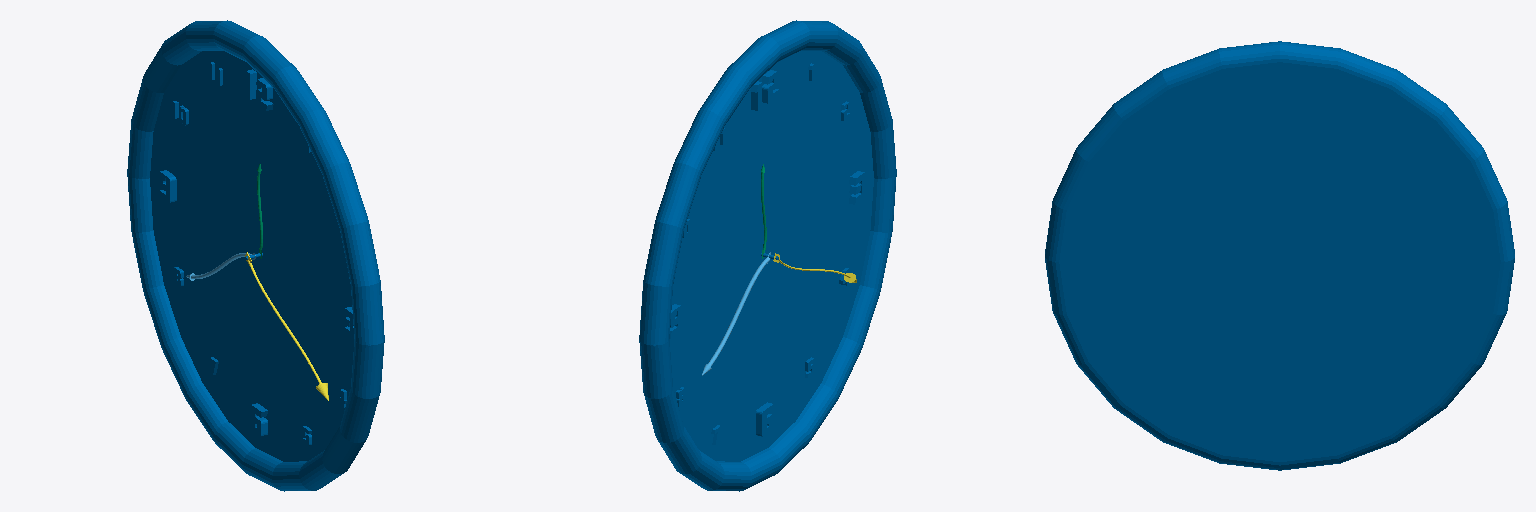
URDF robot description (partnet_e67f610cafeb2c0dbf93f50e43a43f7e):
<?xml version="1.0" ?>
<robot name="partnet_e67f610cafeb2c0dbf93f50e43a43f7e">
	<link name="base"/>
	<link name="link_0">
		<visual name="hand-4">
			<origin xyz="-0.008076388910453064 0.037848999999999966 0"/>
			<geometry>
				<mesh filename="textured_objs/original-12.obj"/>
			</geometry>
		</visual>
		<visual name="hand-4">
			<origin xyz="-0.008076388910453064 0.037848999999999966 0"/>
			<geometry>
				<mesh filename="textured_objs/original-11.obj"/>
			</geometry>
		</visual>
		<visual name="hand-4">
			<origin xyz="-0.008076388910453064 0.037848999999999966 0"/>
			<geometry>
				<mesh filename="textured_objs/original-10.obj"/>
			</geometry>
		</visual>
		<collision>
			<origin xyz="-0.008076388910453064 0.037848999999999966 0"/>
			<geometry>
				<mesh filename="textured_objs/original-12.obj"/>
			</geometry>
		</collision>
		<collision>
			<origin xyz="-0.008076388910453064 0.037848999999999966 0"/>
			<geometry>
				<mesh filename="textured_objs/original-11.obj"/>
			</geometry>
		</collision>
		<collision>
			<origin xyz="-0.008076388910453064 0.037848999999999966 0"/>
			<geometry>
				<mesh filename="textured_objs/original-10.obj"/>
			</geometry>
		</collision>
	</link>
	<joint name="joint_0" type="continuous">
		<origin xyz="0.008076388910453064 -0.037848999999999966 0"/>
		<axis xyz="0 0 1"/>
		<child link="link_0"/>
		<parent link="link_3"/>
	</joint>
	<link name="link_1">
		<visual name="hand-5">
			<origin xyz="-0.008076388910453064 0.037848999999999966 0"/>
			<geometry>
				<mesh filename="textured_objs/original-7.obj"/>
			</geometry>
		</visual>
		<visual name="hand-5">
			<origin xyz="-0.008076388910453064 0.037848999999999966 0"/>
			<geometry>
				<mesh filename="textured_objs/original-6.obj"/>
			</geometry>
		</visual>
		<collision>
			<origin xyz="-0.008076388910453064 0.037848999999999966 0"/>
			<geometry>
				<mesh filename="textured_objs/original-7.obj"/>
			</geometry>
		</collision>
		<collision>
			<origin xyz="-0.008076388910453064 0.037848999999999966 0"/>
			<geometry>
				<mesh filename="textured_objs/original-6.obj"/>
			</geometry>
		</collision>
	</link>
	<joint name="joint_1" type="continuous">
		<origin xyz="0.008076388910453064 -0.037848999999999966 0"/>
		<axis xyz="0 0 1"/>
		<child link="link_1"/>
		<parent link="link_3"/>
	</joint>
	<link name="link_2">
		<visual name="hand-6">
			<origin xyz="-0.008076388910453064 0.037848999999999966 0"/>
			<geometry>
				<mesh filename="textured_objs/original-4.obj"/>
			</geometry>
		</visual>
		<visual name="hand-6">
			<origin xyz="-0.008076388910453064 0.037848999999999966 0"/>
			<geometry>
				<mesh filename="textured_objs/original-3.obj"/>
			</geometry>
		</visual>
		<collision>
			<origin xyz="-0.008076388910453064 0.037848999999999966 0"/>
			<geometry>
				<mesh filename="textured_objs/original-4.obj"/>
			</geometry>
		</collision>
		<collision>
			<origin xyz="-0.008076388910453064 0.037848999999999966 0"/>
			<geometry>
				<mesh filename="textured_objs/original-3.obj"/>
			</geometry>
		</collision>
	</link>
	<joint name="joint_2" type="continuous">
		<origin xyz="0.008076388910453064 -0.037848999999999966 0"/>
		<axis xyz="0 0 1"/>
		<child link="link_2"/>
		<parent link="link_3"/>
	</joint>
	<link name="link_3">
		<visual name="frame-3">
			<origin xyz="0 0 0"/>
			<geometry>
				<mesh filename="textured_objs/original-1.obj"/>
			</geometry>
		</visual>
		<visual name="surface-7">
			<origin xyz="0 0 0"/>
			<geometry>
				<mesh filename="textured_objs/original-18.obj"/>
			</geometry>
		</visual>
		<visual name="surface-7">
			<origin xyz="0 0 0"/>
			<geometry>
				<mesh filename="textured_objs/original-27.obj"/>
			</geometry>
		</visual>
		<visual name="surface-7">
			<origin xyz="0 0 0"/>
			<geometry>
				<mesh filename="textured_objs/original-26.obj"/>
			</geometry>
		</visual>
		<visual name="surface-7">
			<origin xyz="0 0 0"/>
			<geometry>
				<mesh filename="textured_objs/original-29.obj"/>
			</geometry>
		</visual>
		<visual name="surface-7">
			<origin xyz="0 0 0"/>
			<geometry>
				<mesh filename="textured_objs/original-30.obj"/>
			</geometry>
		</visual>
		<visual name="surface-7">
			<origin xyz="0 0 0"/>
			<geometry>
				<mesh filename="textured_objs/original-14.obj"/>
			</geometry>
		</visual>
		<visual name="surface-7">
			<origin xyz="0 0 0"/>
			<geometry>
				<mesh filename="textured_objs/original-15.obj"/>
			</geometry>
		</visual>
		<visual name="surface-7">
			<origin xyz="0 0 0"/>
			<geometry>
				<mesh filename="textured_objs/original-19.obj"/>
			</geometry>
		</visual>
		<visual name="surface-7">
			<origin xyz="0 0 0"/>
			<geometry>
				<mesh filename="textured_objs/original-31.obj"/>
			</geometry>
		</visual>
		<visual name="surface-7">
			<origin xyz="0 0 0"/>
			<geometry>
				<mesh filename="textured_objs/original-20.obj"/>
			</geometry>
		</visual>
		<visual name="surface-7">
			<origin xyz="0 0 0"/>
			<geometry>
				<mesh filename="textured_objs/original-17.obj"/>
			</geometry>
		</visual>
		<visual name="surface-7">
			<origin xyz="0 0 0"/>
			<geometry>
				<mesh filename="textured_objs/original-21.obj"/>
			</geometry>
		</visual>
		<visual name="surface-7">
			<origin xyz="0 0 0"/>
			<geometry>
				<mesh filename="textured_objs/original-22.obj"/>
			</geometry>
		</visual>
		<visual name="surface-7">
			<origin xyz="0 0 0"/>
			<geometry>
				<mesh filename="textured_objs/original-16.obj"/>
			</geometry>
		</visual>
		<visual name="surface-7">
			<origin xyz="0 0 0"/>
			<geometry>
				<mesh filename="textured_objs/original-23.obj"/>
			</geometry>
		</visual>
		<visual name="surface-7">
			<origin xyz="0 0 0"/>
			<geometry>
				<mesh filename="textured_objs/original-24.obj"/>
			</geometry>
		</visual>
		<collision>
			<origin xyz="0 0 0"/>
			<geometry>
				<mesh filename="textured_objs/original-1.obj"/>
			</geometry>
		</collision>
		<collision>
			<origin xyz="0 0 0"/>
			<geometry>
				<mesh filename="textured_objs/original-18.obj"/>
			</geometry>
		</collision>
		<collision>
			<origin xyz="0 0 0"/>
			<geometry>
				<mesh filename="textured_objs/original-27.obj"/>
			</geometry>
		</collision>
		<collision>
			<origin xyz="0 0 0"/>
			<geometry>
				<mesh filename="textured_objs/original-26.obj"/>
			</geometry>
		</collision>
		<collision>
			<origin xyz="0 0 0"/>
			<geometry>
				<mesh filename="textured_objs/original-29.obj"/>
			</geometry>
		</collision>
		<collision>
			<origin xyz="0 0 0"/>
			<geometry>
				<mesh filename="textured_objs/original-30.obj"/>
			</geometry>
		</collision>
		<collision>
			<origin xyz="0 0 0"/>
			<geometry>
				<mesh filename="textured_objs/original-14.obj"/>
			</geometry>
		</collision>
		<collision>
			<origin xyz="0 0 0"/>
			<geometry>
				<mesh filename="textured_objs/original-15.obj"/>
			</geometry>
		</collision>
		<collision>
			<origin xyz="0 0 0"/>
			<geometry>
				<mesh filename="textured_objs/original-19.obj"/>
			</geometry>
		</collision>
		<collision>
			<origin xyz="0 0 0"/>
			<geometry>
				<mesh filename="textured_objs/original-31.obj"/>
			</geometry>
		</collision>
		<collision>
			<origin xyz="0 0 0"/>
			<geometry>
				<mesh filename="textured_objs/original-20.obj"/>
			</geometry>
		</collision>
		<collision>
			<origin xyz="0 0 0"/>
			<geometry>
				<mesh filename="textured_objs/original-17.obj"/>
			</geometry>
		</collision>
		<collision>
			<origin xyz="0 0 0"/>
			<geometry>
				<mesh filename="textured_objs/original-21.obj"/>
			</geometry>
		</collision>
		<collision>
			<origin xyz="0 0 0"/>
			<geometry>
				<mesh filename="textured_objs/original-22.obj"/>
			</geometry>
		</collision>
		<collision>
			<origin xyz="0 0 0"/>
			<geometry>
				<mesh filename="textured_objs/original-16.obj"/>
			</geometry>
		</collision>
		<collision>
			<origin xyz="0 0 0"/>
			<geometry>
				<mesh filename="textured_objs/original-23.obj"/>
			</geometry>
		</collision>
		<collision>
			<origin xyz="0 0 0"/>
			<geometry>
				<mesh filename="textured_objs/original-24.obj"/>
			</geometry>
		</collision>
	</link>
	<joint name="joint_3" type="fixed">
		<origin rpy="1.570796326794897 0 -1.570796326794897" xyz="0 0 0"/>
		<child link="link_3"/>
		<parent link="base"/>
	</joint>
</robot>

--- Render facts (derived) ---
The picture shows the robot from 3 angles, left to right: view 1: azimuth 30°, elevation 25°; view 2: azimuth 150°, elevation 25°; view 3: azimuth 270°, elevation 25°; orthographic projection.
Robot: partnet_e67f610cafeb2c0dbf93f50e43a43f7e — 5 links, 4 joints (3 continuous, 1 fixed); root link base; default pose: every joint at zero.
Links seen in each view (by area): view 1: link_3, link_2; view 2: link_3, link_0; view 3: link_3.
Link boxes in pixels (x1,y1,x2,y2): link_3: (127, 20, 384, 491); link_2: (245, 252, 328, 400); link_3: (639, 20, 896, 491); link_0: (702, 252, 770, 375); link_3: (1045, 41, 1514, 470).
Size in the robot's own frame: 0.1265 by 1.94 by 1.94 metres.
24 mesh visuals loaded from 24 distinct referenced files (24 OBJ).
